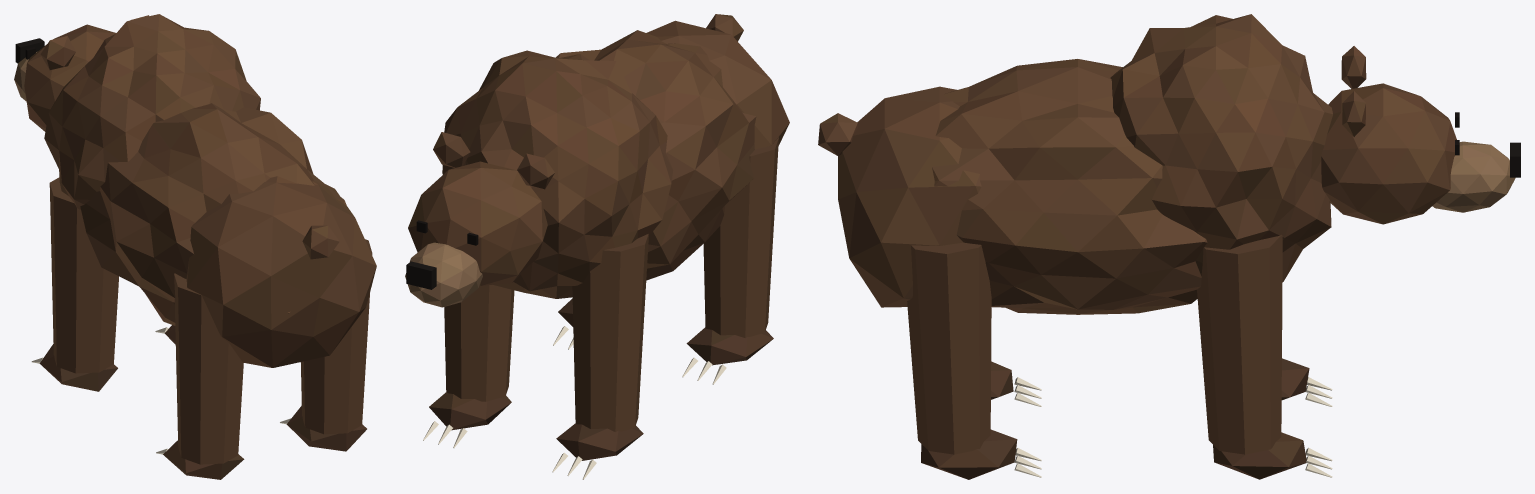
Rendered from Bear.glb.
3 renders of one model, left to right at view 1: azimuth 30°, elevation 25°; view 2: azimuth 150°, elevation 25°; view 3: azimuth 270°, elevation 25°, orthographic. The views are drawn at different scales.
Visible parts, largest first — view 1: Mat_Wood_60422c, Mat_Wood_513725, Mat_Wood_6a4b33; view 2: Mat_Wood_60422c, Mat_Wood_513725, Mat_Wood_6a4b33, Mat_Cloth_dcd2be; view 3: Mat_Wood_60422c, Mat_Wood_6a4b33, Mat_Wood_513725, Mat_Cloth_dcd2be.
Part boxes in pixels (box(x1,y1,x2,y2)): Mat_Wood_60422c: box(27, 14, 376, 464); Mat_Wood_513725: box(15, 14, 372, 479); Mat_Wood_6a4b33: box(14, 14, 376, 367); Mat_Wood_60422c: box(408, 14, 778, 431); Mat_Wood_513725: box(406, 20, 789, 460); Mat_Wood_6a4b33: box(405, 14, 789, 307); Mat_Cloth_dcd2be: box(423, 326, 726, 479); Mat_Wood_60422c: box(820, 14, 1450, 454); Mat_Wood_6a4b33: box(818, 14, 1515, 314); Mat_Wood_513725: box(850, 14, 1520, 479); Mat_Cloth_dcd2be: box(1014, 377, 1332, 477).
Bounding box in the file's own units: 3.79 × 6.25 × 9.67.
1 material, 1 textured.
